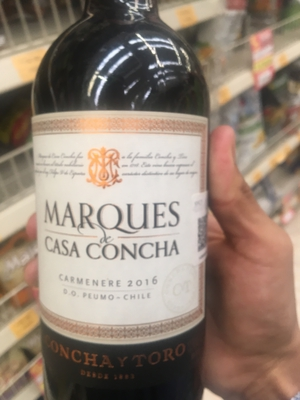marques de casa concha carmenere: (29, 16, 211, 400)
